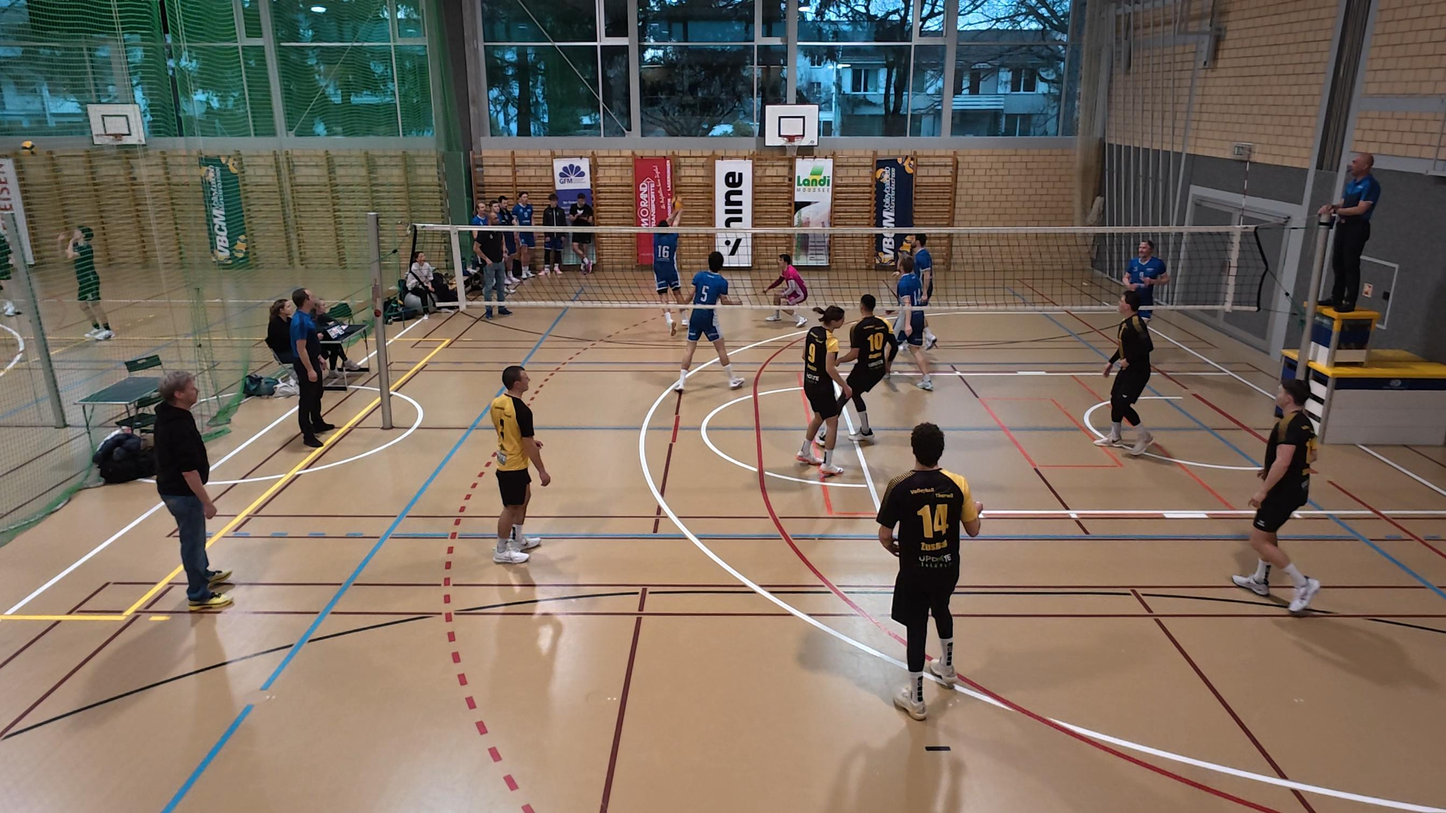ricezione: (644, 194, 695, 331)
